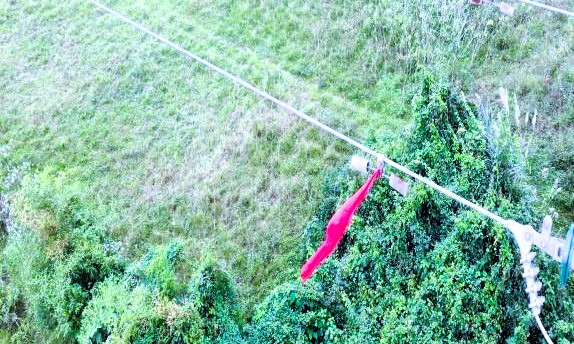wire foreign body: (295, 145, 399, 281)
